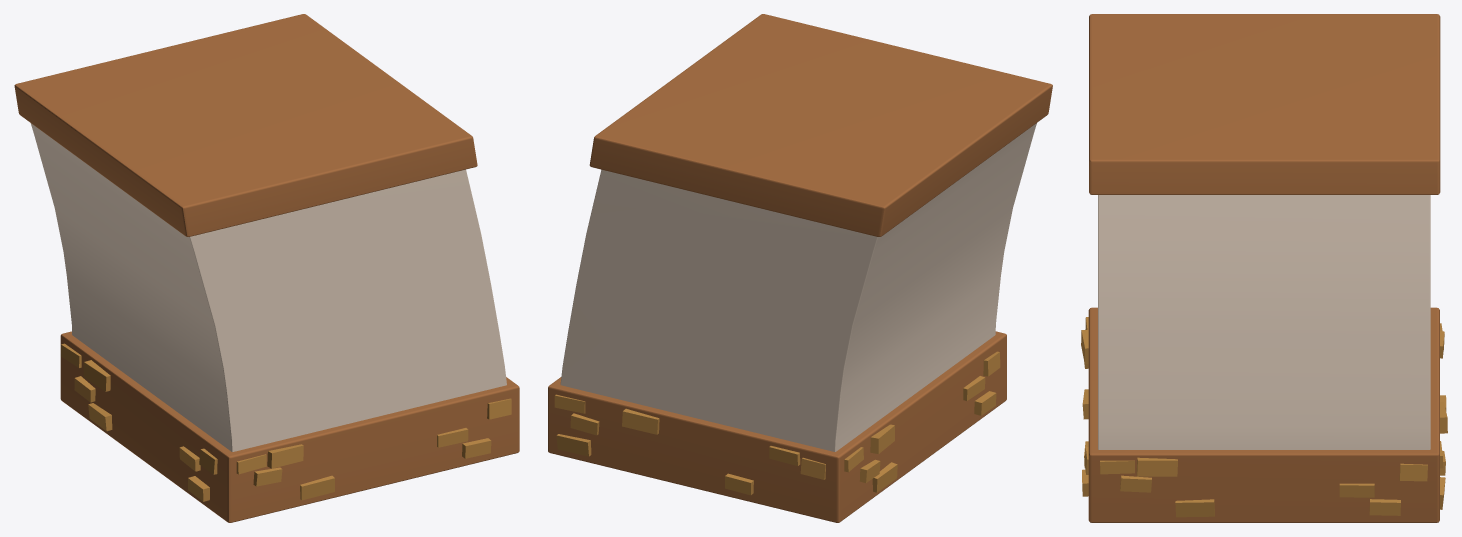
File: Mesh_EDH_Building4.fbx
3 renders of one model, left to right at view 1: azimuth 30°, elevation 25°; view 2: azimuth 150°, elevation 25°; view 3: azimuth 270°, elevation 25°, orthographic. The views are drawn at different scales.
Parts seen in each view (by area): view 1: group1_pCube59; view 2: group1_pCube59; view 3: group1_pCube59.
Boxes of the visible parts, x1,y1,x2,y2 form: group1_pCube59: [14, 14, 519, 522]; group1_pCube59: [548, 14, 1052, 522]; group1_pCube59: [1081, 14, 1447, 522].
Size of the model in its own units: 198 by 180 by 176.
